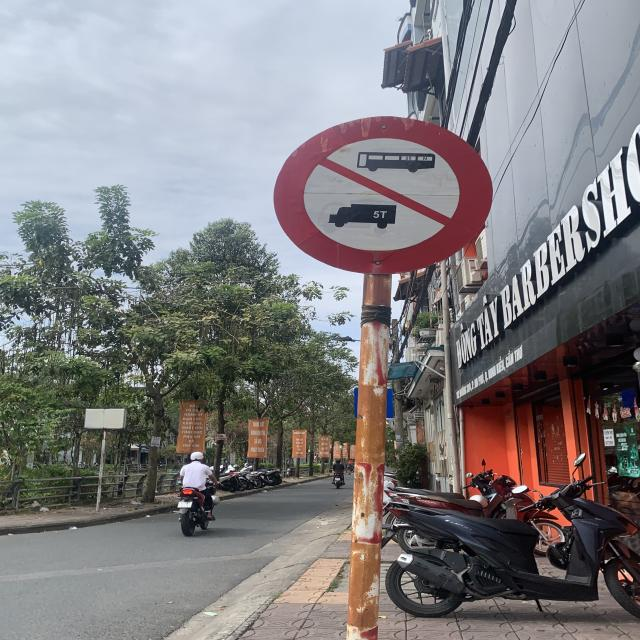Cam_XeTai_XeKhach: (271, 117, 494, 276)
